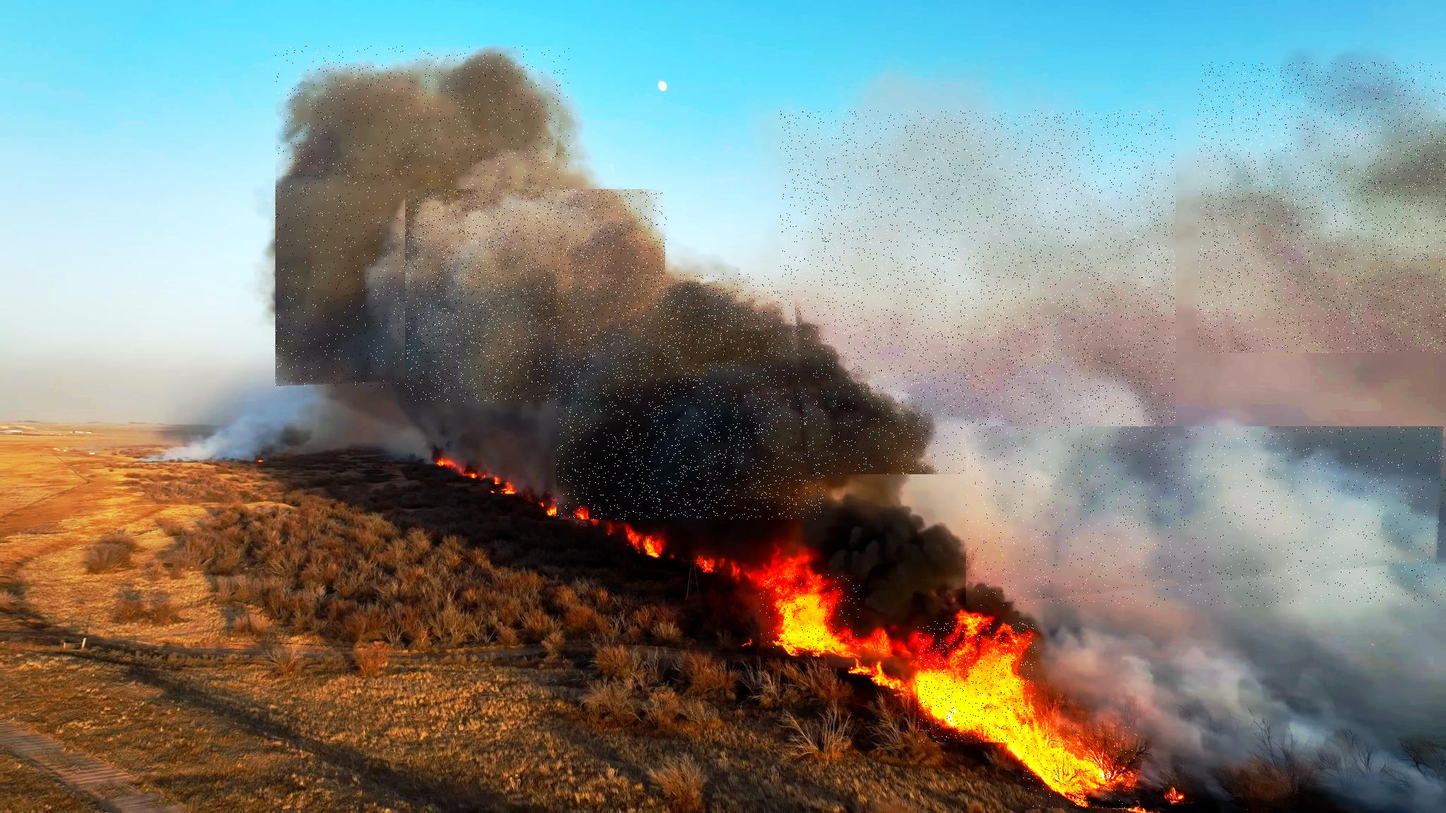fire: (918, 621, 1035, 742), (1022, 725, 1137, 808), (760, 575, 860, 648)
smoke: (780, 110, 1176, 474), (275, 46, 569, 387), (966, 426, 1446, 607), (1198, 62, 1446, 353), (556, 274, 825, 519), (405, 189, 667, 402)
